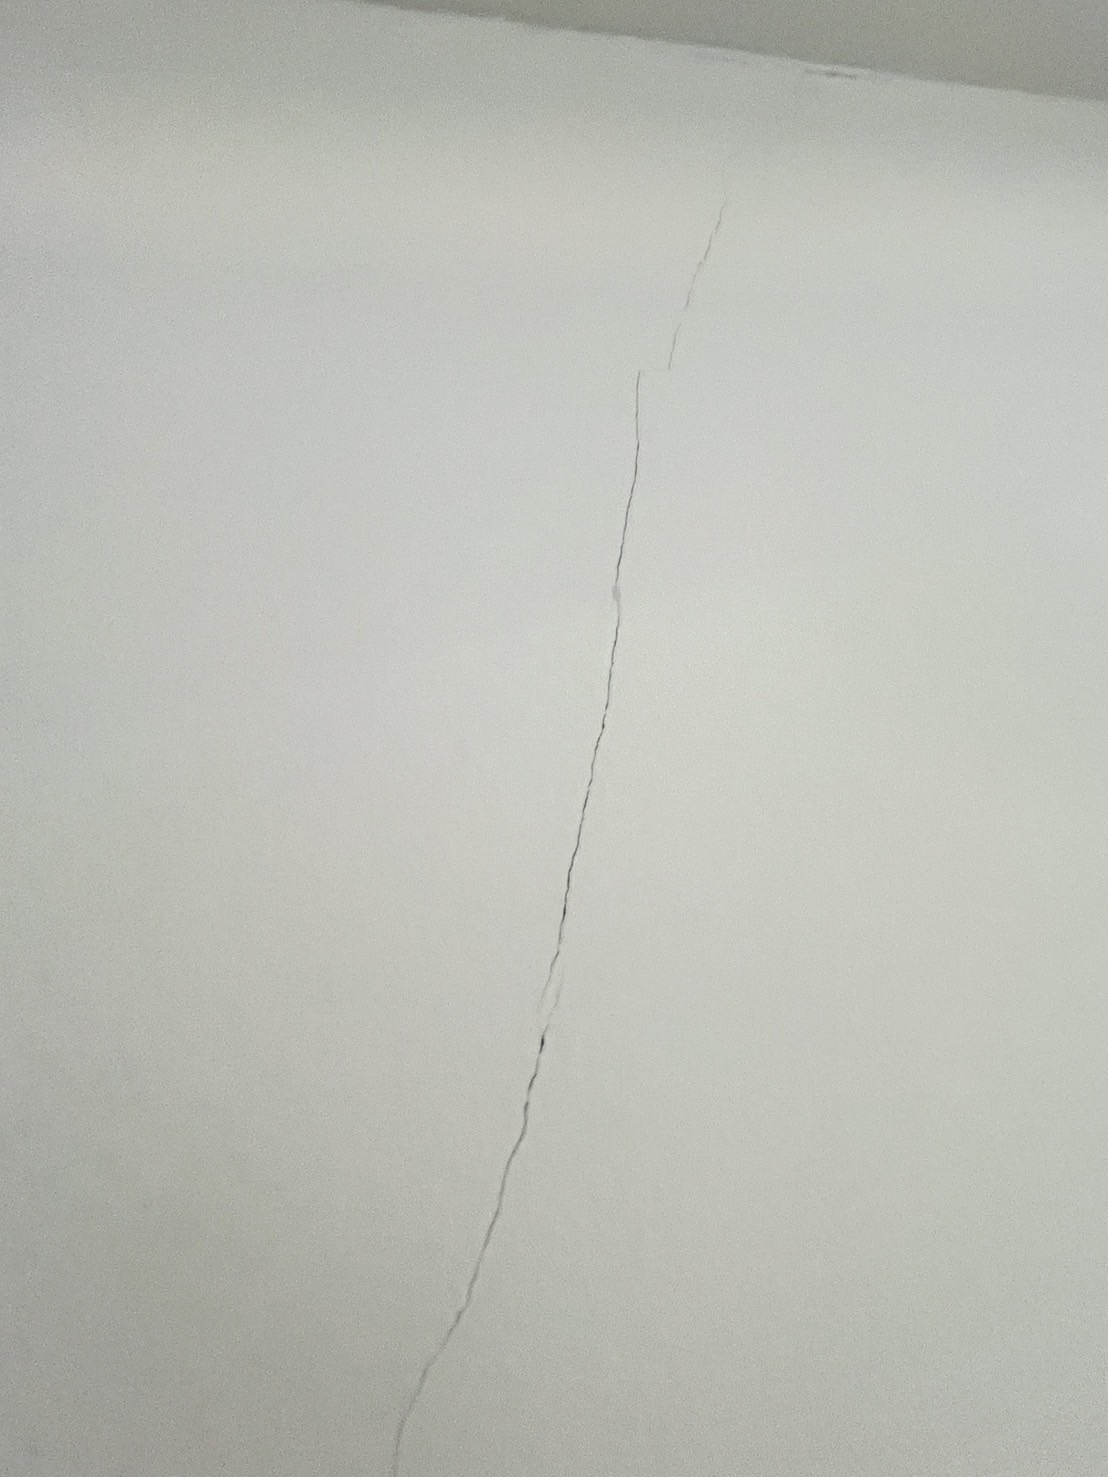Low: (374, 69, 888, 1454)
